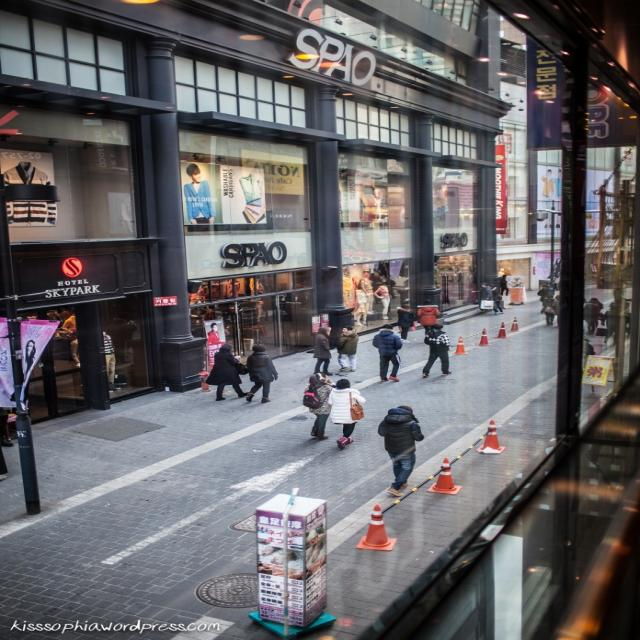body: (374, 404, 429, 499), (323, 376, 368, 452), (202, 340, 250, 402), (72, 331, 120, 389), (300, 372, 338, 441), (350, 271, 393, 328), (243, 342, 280, 405), (370, 322, 406, 382), (180, 163, 215, 224), (420, 322, 454, 378), (604, 279, 632, 327), (310, 324, 336, 375), (335, 324, 360, 373), (415, 297, 441, 341), (394, 302, 416, 344), (474, 281, 500, 316), (600, 301, 619, 346), (205, 323, 222, 369), (580, 333, 598, 375), (582, 298, 601, 336), (586, 296, 605, 331), (487, 283, 505, 316), (538, 293, 556, 326), (536, 284, 551, 314), (500, 274, 510, 297), (550, 294, 560, 316), (24, 340, 28, 388), (512, 276, 522, 288)
